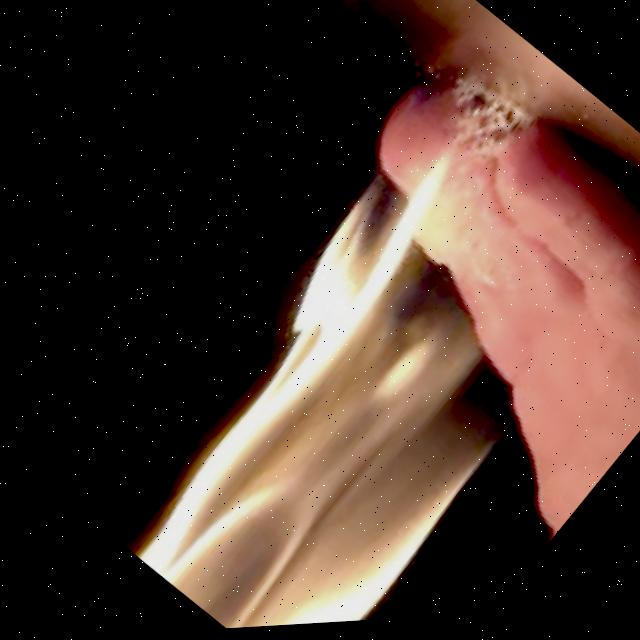Fire: (72, 115, 640, 637)
